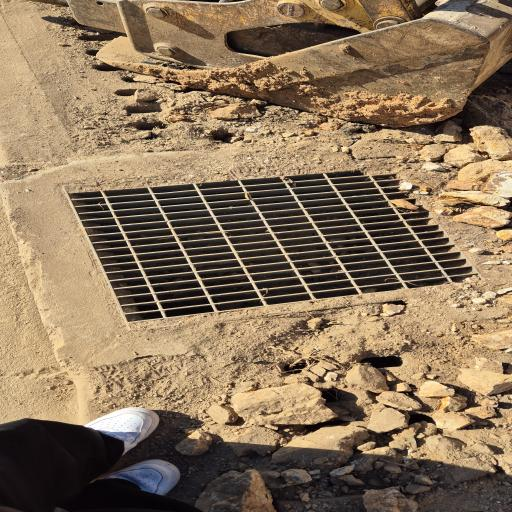drain: (69, 171, 476, 322)
